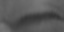LeftEyeFatigue: (3, 5, 64, 31)
